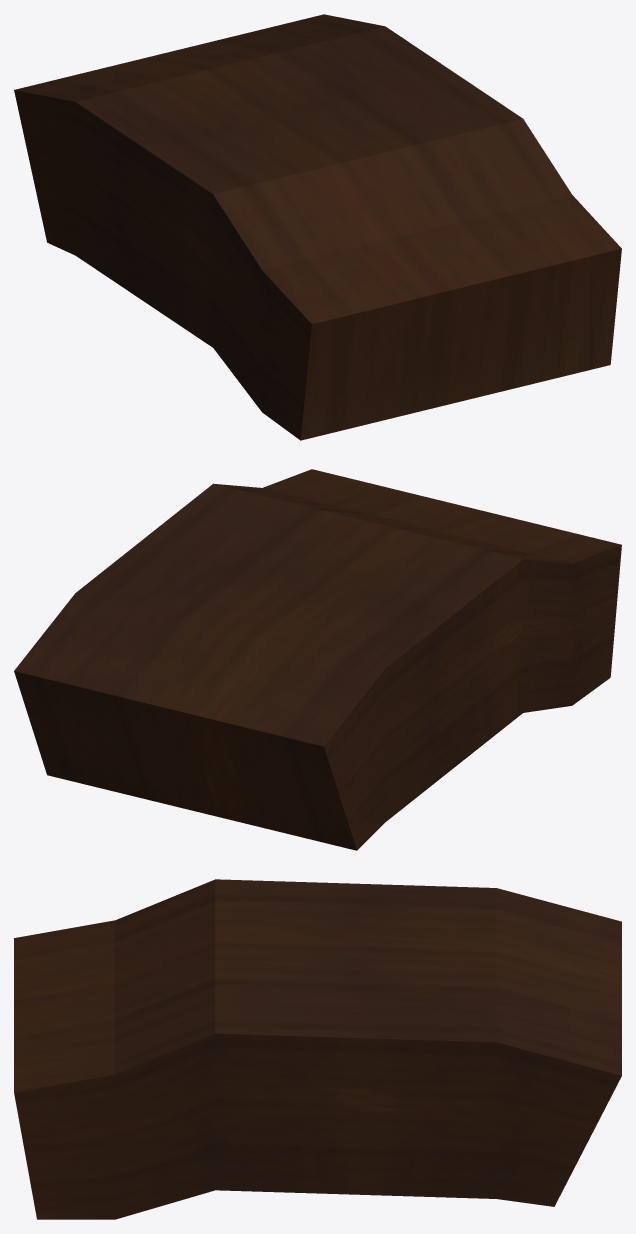
File: F_Tree_Walk_2_middle.fbx
3 views of the same model, one above another, from view 1: azimuth 30°, elevation 25°; view 2: azimuth 150°, elevation 25°; view 3: azimuth 270°, elevation 25° (orthographic). The views are drawn at different scales.
Parts seen in each view (by area): view 1: F_Tree_Walk_2_middle; view 2: F_Tree_Walk_2_middle; view 3: F_Tree_Walk_2_middle.
Boxes of the visible parts, x1,y1,x2,y2 form: F_Tree_Walk_2_middle: [14, 14, 621, 440]; F_Tree_Walk_2_middle: [14, 469, 621, 850]; F_Tree_Walk_2_middle: [14, 879, 621, 1219].
Size of the model in its own units: 6.1 by 2.06 by 3.66.
Materials: 1 (1 with a texture image).
